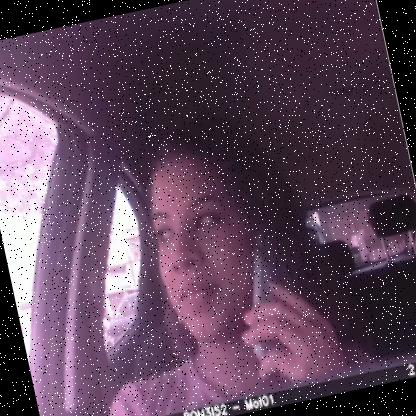phone: (224, 214, 319, 387)
